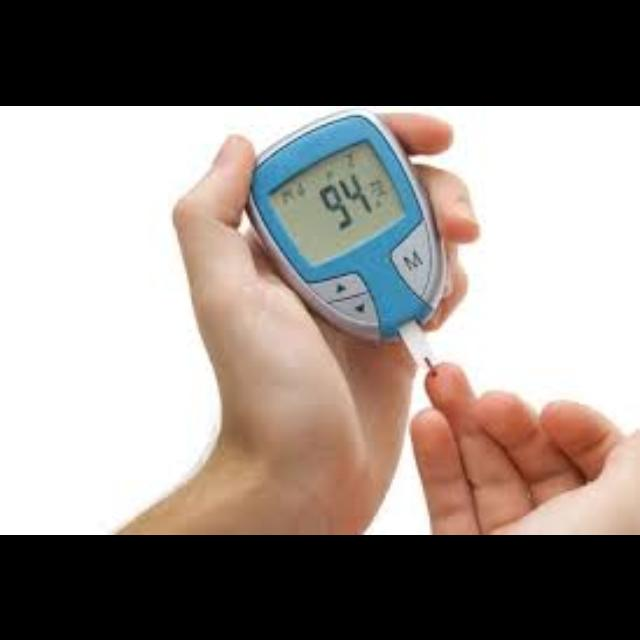Glucose-Meter: (249, 110, 445, 364)
